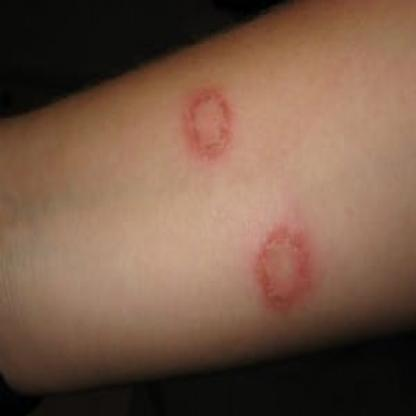Ringworm: (252, 202, 316, 324), (182, 83, 237, 166)
